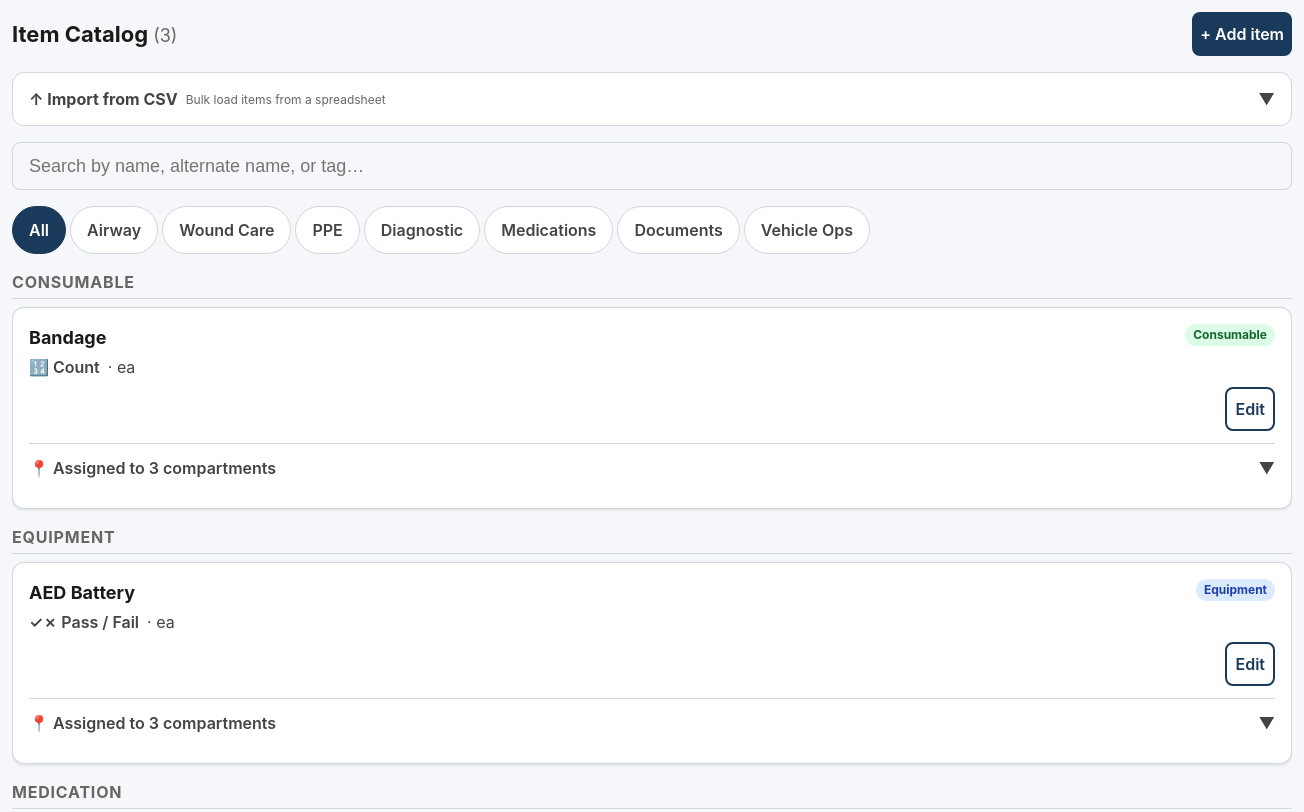
Test: ItemCatalog — search filters results › clearing the search restores all items
This screenshot has width=1304, height=812.
Type "AED" into the search field named "search items" at [652, 166], box x1=12 y1=142 x2=1292 y2=190
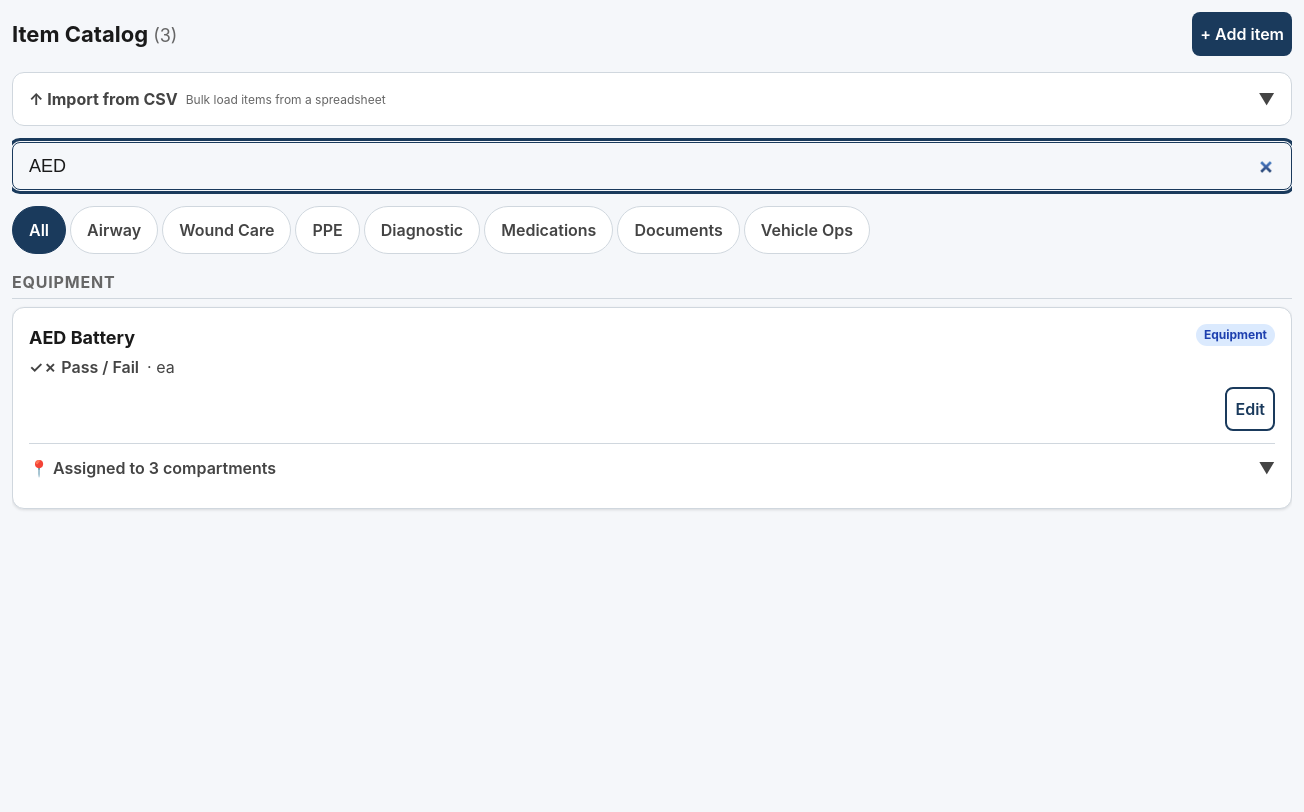
Clear the search field named "search items" at [652, 166], box x1=12 y1=142 x2=1292 y2=190
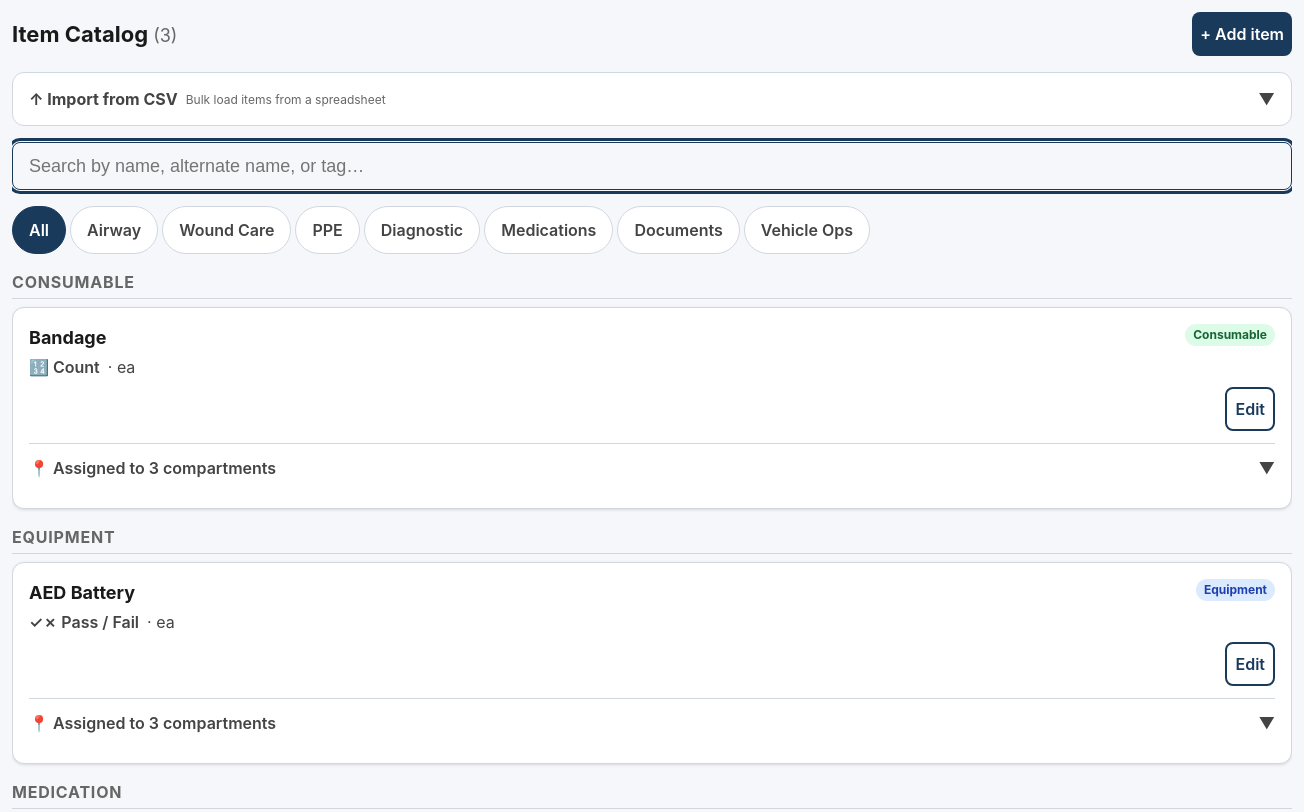
Check: the text "Bandage" is shown, box x1=29 y1=324 x2=106 y2=351
